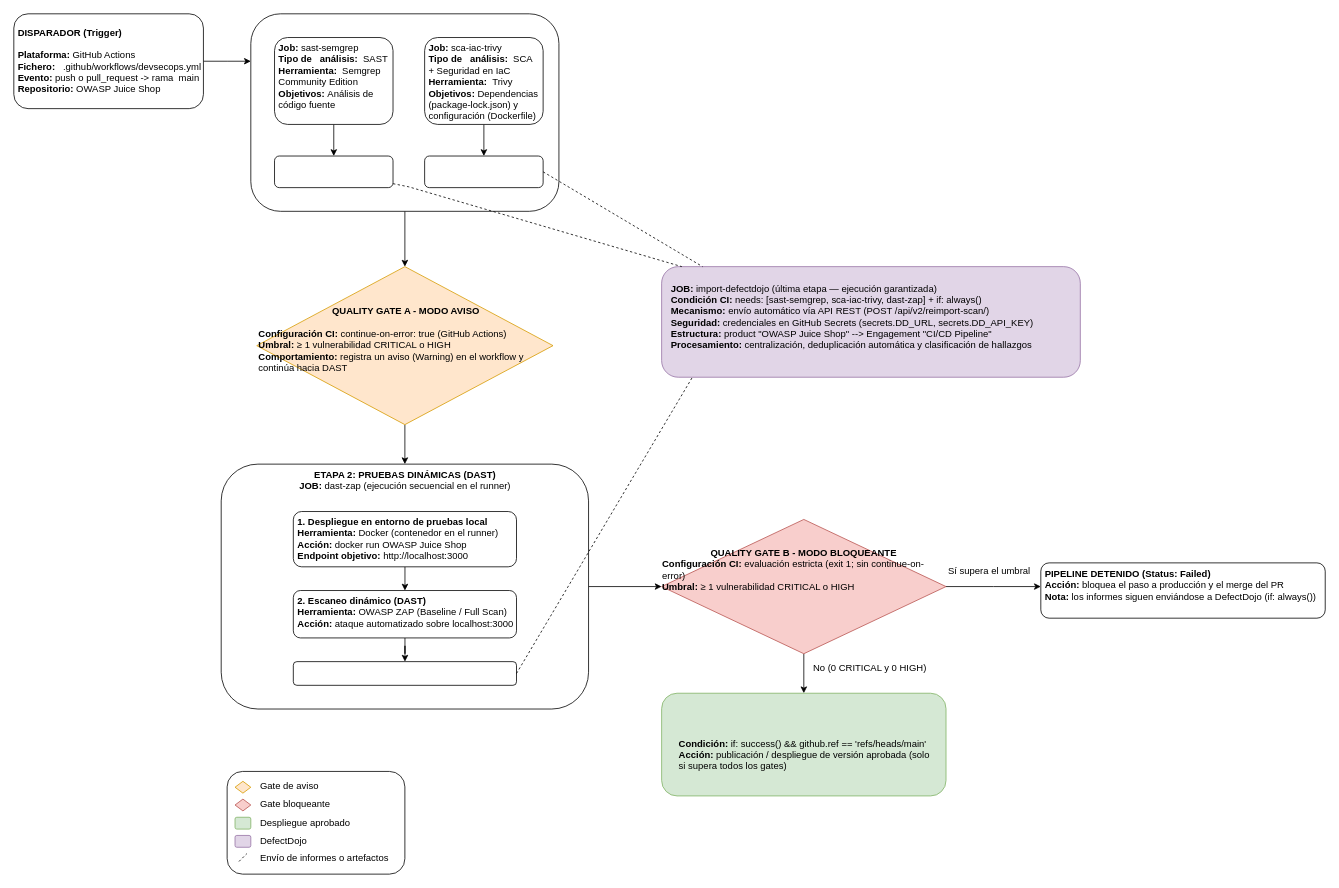
Image size: 1339x888. Some labels were removed from this diagram. Each missing label, with the box of its shape:
Artefacto generado: zap-report.xml (o .json): (293, 661, 517, 685)
ETAPA 1: ANÁLISIS ESTÁTICO Y DE INFRAESTRUCTURA: (250, 13, 559, 211)
ETAPA 3: DESPLIEGUE JOB: deploy: (661, 692, 946, 796)
Informe (Artifact): semgrep-report.json: (274, 155, 393, 188)
Informe (Artifacts): trivy-sca.json, trivy-iac.json: (424, 155, 543, 188)
